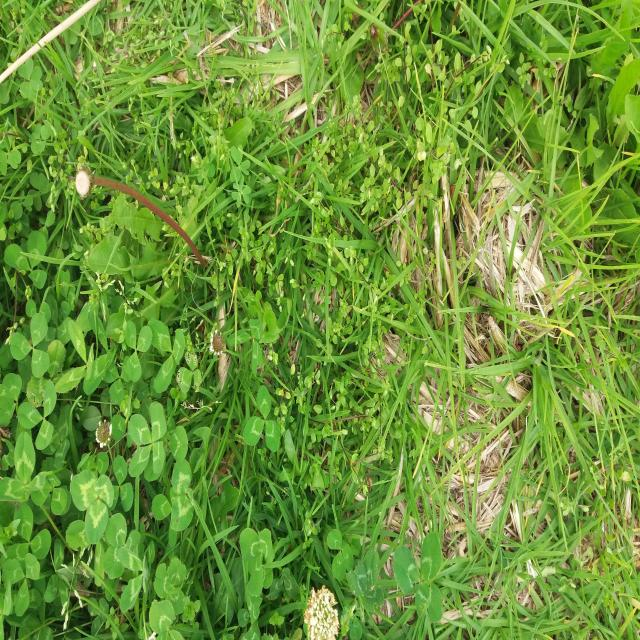Four Leaf Clover: (128, 403, 167, 477)
